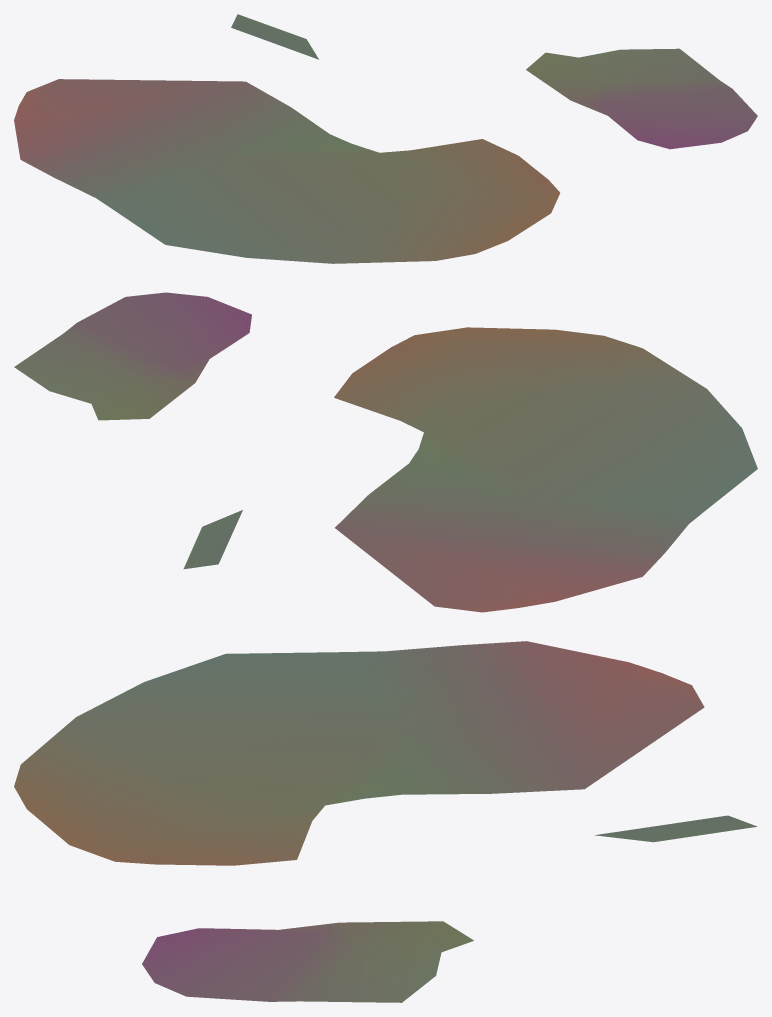
3 renders of one model, top to bottom at view 1: azimuth 30°, elevation 25°; view 2: azimuth 150°, elevation 25°; view 3: azimuth 270°, elevation 25°, orthographic. The views are drawn at different scales.
Visible parts, largest first — view 1: starcloud172; view 2: starcloud172; view 3: starcloud172.
Part boxes in pixels (<box>): starcloud172: <box>14,14,757,263</box>; starcloud172: <box>14,292,757,612</box>; starcloud172: <box>14,641,757,1002</box>.
Size of the model in its own units: 0.5 by 1.17e-07 by 0.4346.
